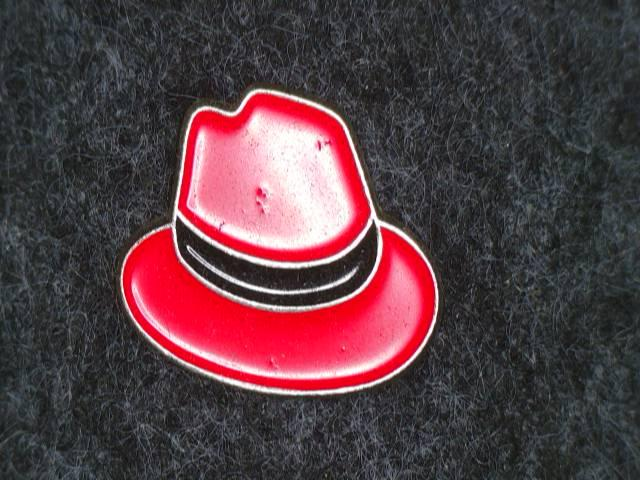Red-Hat: (92, 61, 493, 405)
